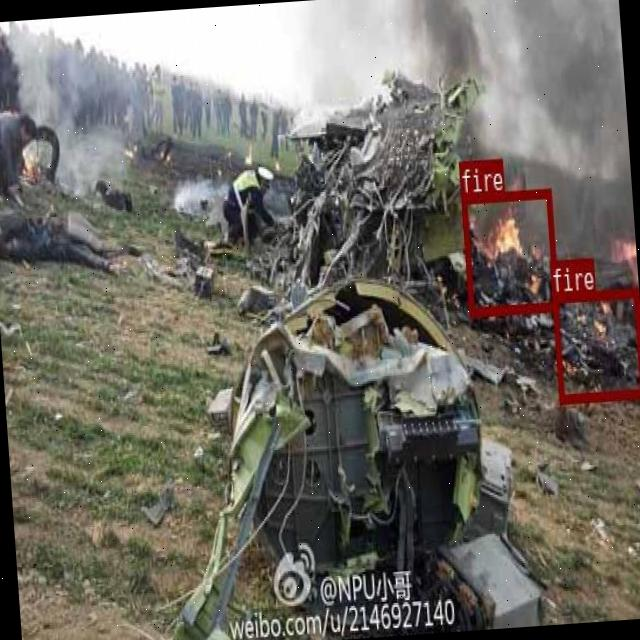fire: (461, 186, 558, 314), (551, 286, 640, 400)
